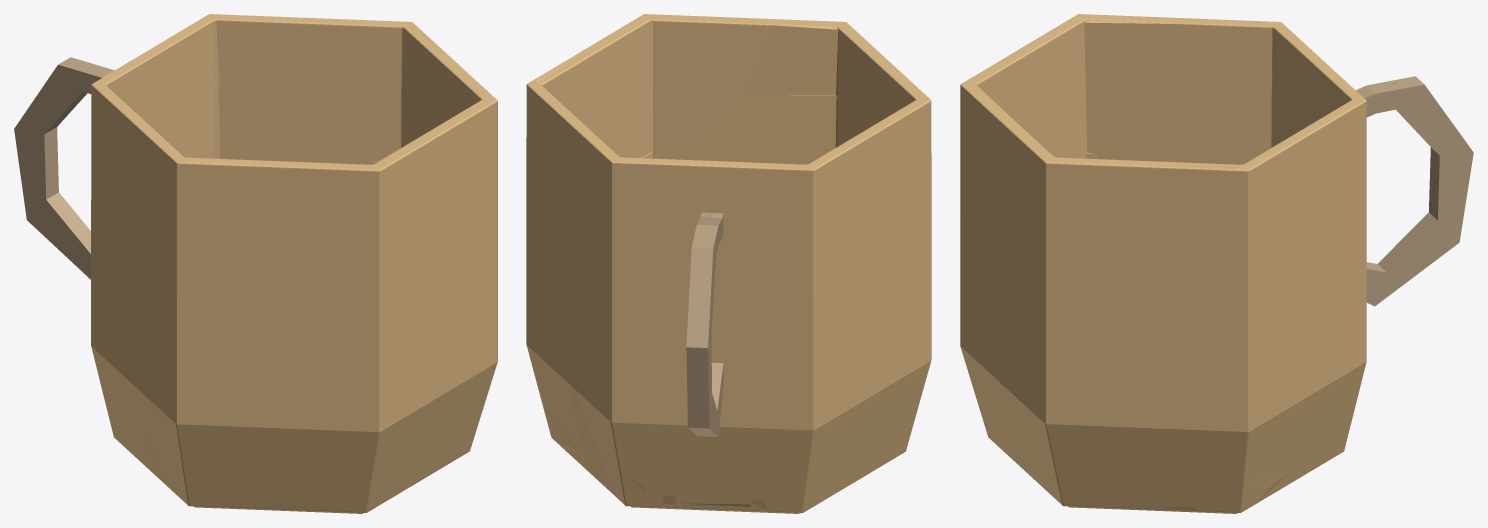
The model's file is CupShattered.fbx.
3 renders of one model, left to right at view 1: azimuth 30°, elevation 25°; view 2: azimuth 150°, elevation 25°; view 3: azimuth 270°, elevation 25°, orthographic.
Visible parts, largest first — view 1: Cup, Cup_cell.019, Cup_cell.035, Cup_cell.061, Cup_cell.079, Cup_cell.020, Cup_cell.088, Cup_cell.064, Cup_cell.028, Cup_cell.043, cup.002, Cup_cell.022 (+12 smaller); view 2: Cup, Cup_cell.052, Cup_cell.079, Cup_cell.054, Cup_cell.035, cup.002, Cup_cell.033, Cup_cell.064, Cup_cell.028, Cup_cell.080, Cup_cell.092; view 3: Cup, Cup_cell.028, Cup_cell.064, cup.002, Cup_cell.015, Cup_cell.042, Cup_cell.052, Cup_cell.035, Cup_cell.022, Cup_cell.083, Cup_cell.054, Cup_cell.069 (+3 smaller).
Part boxes in pixels (left/top/right/bottom): Cup: left=91, top=14, right=497, bottom=513; Cup_cell.019: left=309, top=25, right=399, bottom=158; Cup_cell.035: left=278, top=137, right=438, bottom=236; Cup_cell.061: left=220, top=87, right=357, bottom=163; Cup_cell.079: left=95, top=220, right=140, bottom=414; Cup_cell.020: left=278, top=363, right=377, bottom=470; Cup_cell.088: left=218, top=21, right=308, bottom=93; Cup_cell.064: left=439, top=98, right=487, bottom=248; Cup_cell.028: left=133, top=136, right=271, bottom=295; Cup_cell.043: left=178, top=295, right=278, bottom=464; cup.002: left=19, top=61, right=108, bottom=279; Cup_cell.022: left=134, top=38, right=188, bottom=140; Cup: left=526, top=14, right=931, bottom=513; Cup_cell.052: left=697, top=95, right=837, bottom=164; Cup_cell.079: left=812, top=266, right=875, bottom=467; Cup_cell.054: left=573, top=388, right=674, bottom=494; Cup_cell.035: left=744, top=23, right=843, bottom=95; cup.002: left=686, top=212, right=723, bottom=436; Cup_cell.033: left=674, top=395, right=751, bottom=502; Cup_cell.064: left=609, top=21, right=652, bottom=157; Cup_cell.028: left=872, top=118, right=922, bottom=264; Cup_cell.080: left=753, top=430, right=866, bottom=499; Cup_cell.092: left=871, top=254, right=931, bottom=421; Cup: left=960, top=14, right=1366, bottom=513; Cup_cell.028: left=1032, top=20, right=1179, bottom=158; Cup_cell.064: left=1003, top=126, right=1146, bottom=296; cup.002: left=1356, top=76, right=1473, bottom=298; Cup_cell.015: left=1148, top=166, right=1246, bottom=300; Cup_cell.042: left=1069, top=457, right=1149, bottom=498; Cup_cell.052: left=962, top=157, right=1022, bottom=318; Cup_cell.035: left=966, top=81, right=1010, bottom=191; Cup_cell.022: left=1292, top=48, right=1331, bottom=134; Cup_cell.083: left=1272, top=28, right=1292, bottom=146; Cup_cell.054: left=1294, top=401, right=1326, bottom=477; Cup_cell.069: left=1001, top=276, right=1152, bottom=463.
Size of the model in its own units: 56.52 by 60.09 by 78.17.
